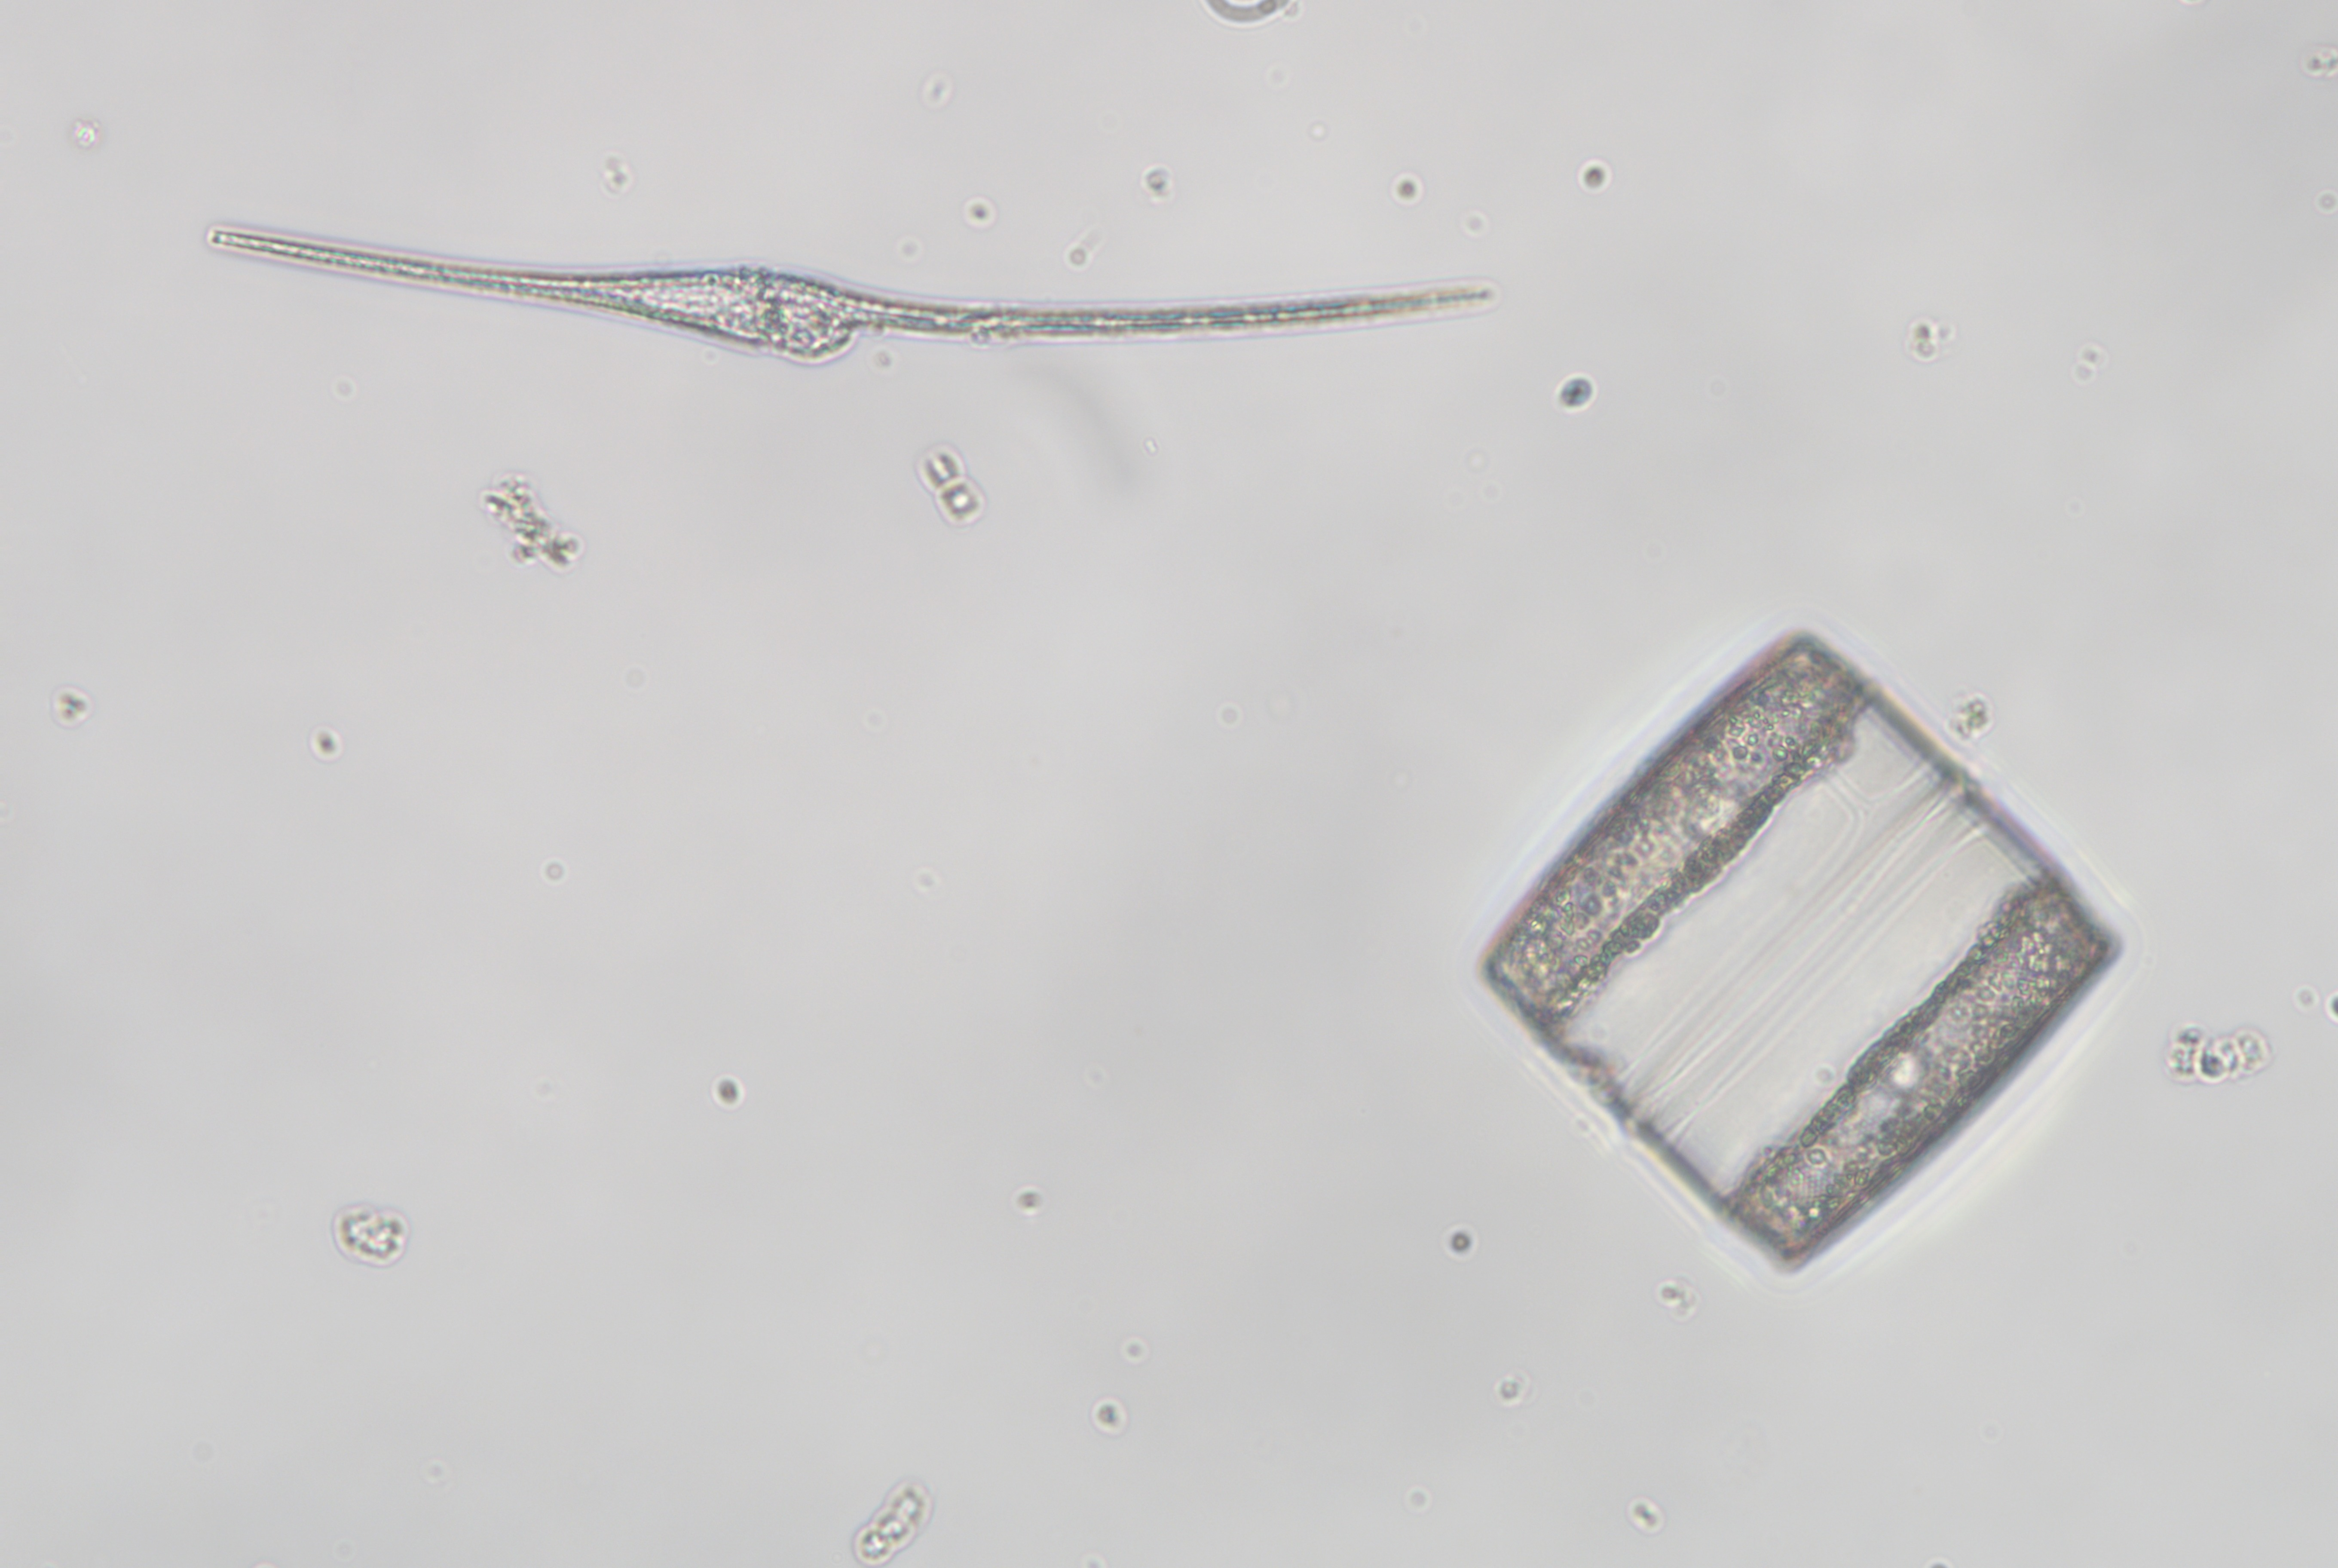ceratium fusus: (199, 222, 1507, 371)
coscinodiscus: (1481, 625, 2123, 1274)
